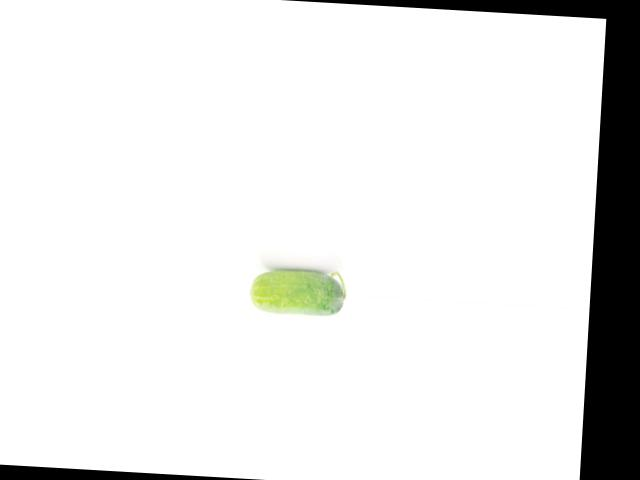cucumber: (247, 265, 346, 317)
